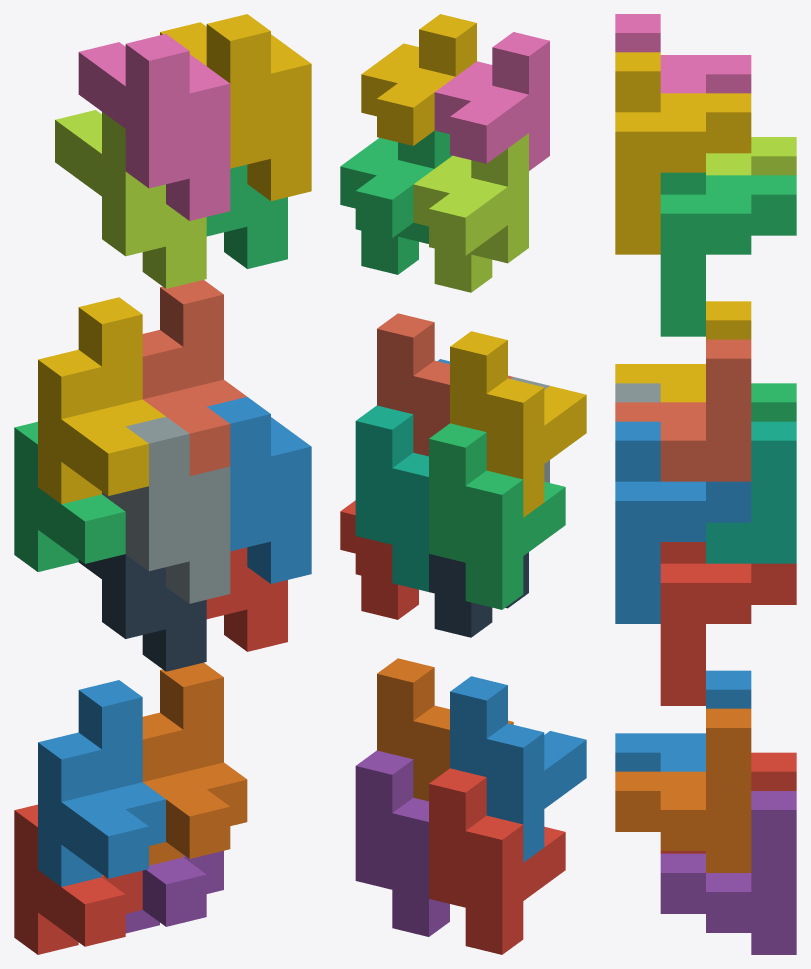
Rendered from tiling.obj.
3 renders of one model, left to right at view 1: azimuth 30°, elevation 25°; view 2: azimuth 150°, elevation 25°; view 3: azimuth 270°, elevation 25°, orthographic. The views are drawn at different scales.
Parts seen in each view (by area): view 1: copy_1_domain_2, copy_2_domain_4, copy_1_domain_4, copy_2_domain_8, copy_1_domain_6, copy_2_domain_2, copy_2_domain_6, copy_2_domain_3, copy_1_domain_8, copy_1_domain_1, copy_1_domain_3, copy_2_domain_1 (+3 smaller); view 2: copy_1_domain_1, copy_1_domain_3, copy_1_domain_2, copy_1_domain_4, copy_2_domain_3, copy_2_domain_4, copy_1_domain_5, copy_1_domain_7, copy_2_domain_7, copy_2_domain_8, copy_1_domain_6, copy_1_domain_8 (+2 smaller); view 3: copy_2_domain_8, copy_1_domain_6, copy_2_domain_6, copy_2_domain_7, copy_1_domain_5, copy_2_domain_5, copy_1_domain_8, copy_1_domain_7, copy_2_domain_4, copy_1_domain_2, copy_1_domain_4, copy_2_domain_3 (+3 smaller).
Boxes of the visible parts, <box> form: copy_1_domain_2: <box>38,680,165,886</box>; copy_2_domain_4: <box>78,34,230,220</box>; copy_1_domain_4: <box>38,297,165,504</box>; copy_2_domain_8: <box>160,14,311,200</box>; copy_1_domain_6: <box>142,662,247,865</box>; copy_2_domain_2: <box>102,416,230,603</box>; copy_2_domain_6: <box>207,397,311,583</box>; copy_2_domain_3: <box>55,110,206,288</box>; copy_1_domain_8: <box>142,280,246,475</box>; copy_1_domain_1: <box>14,804,142,954</box>; copy_1_domain_3: <box>14,421,125,571</box>; copy_2_domain_1: <box>78,554,206,671</box>; copy_1_domain_1: <box>429,768,565,954</box>; copy_1_domain_3: <box>429,423,565,609</box>; copy_1_domain_2: <box>450,676,586,862</box>; copy_1_domain_4: <box>450,331,586,517</box>; copy_2_domain_3: <box>413,133,528,292</box>; copy_2_domain_4: <box>434,32,549,170</box>; copy_1_domain_5: <box>355,750,449,936</box>; copy_1_domain_7: <box>355,405,428,591</box>; copy_2_domain_7: <box>340,130,452,274</box>; copy_2_domain_8: <box>361,14,476,145</box>; copy_1_domain_6: <box>377,658,513,801</box>; copy_1_domain_8: <box>377,313,512,456</box>; copy_2_domain_8: <box>615,52,751,254</box>; copy_1_domain_6: <box>615,708,751,872</box>; copy_2_domain_6: <box>615,421,751,623</box>; copy_2_domain_7: <box>660,172,796,336</box>; copy_1_domain_5: <box>660,791,796,954</box>; copy_2_domain_5: <box>660,542,796,705</box>; copy_1_domain_8: <box>615,339,751,481</box>; copy_1_domain_7: <box>706,421,796,563</box>; copy_2_domain_4: <box>615,14,751,93</box>; copy_1_domain_2: <box>615,670,751,771</box>; copy_1_domain_4: <box>615,301,751,402</box>; copy_2_domain_3: <box>706,137,796,175</box>.
Size of the model in its own units: 5 by 22 by 4.
